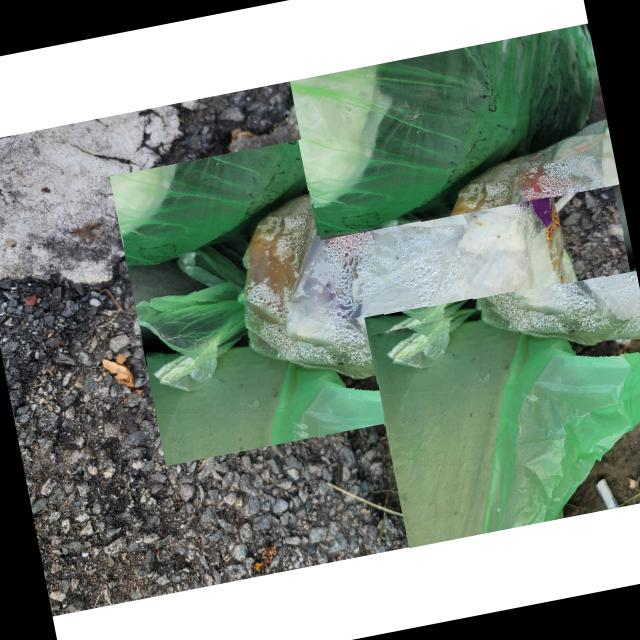general_trashbag: (135, 84, 590, 392), (289, 26, 594, 236), (369, 317, 640, 548)
